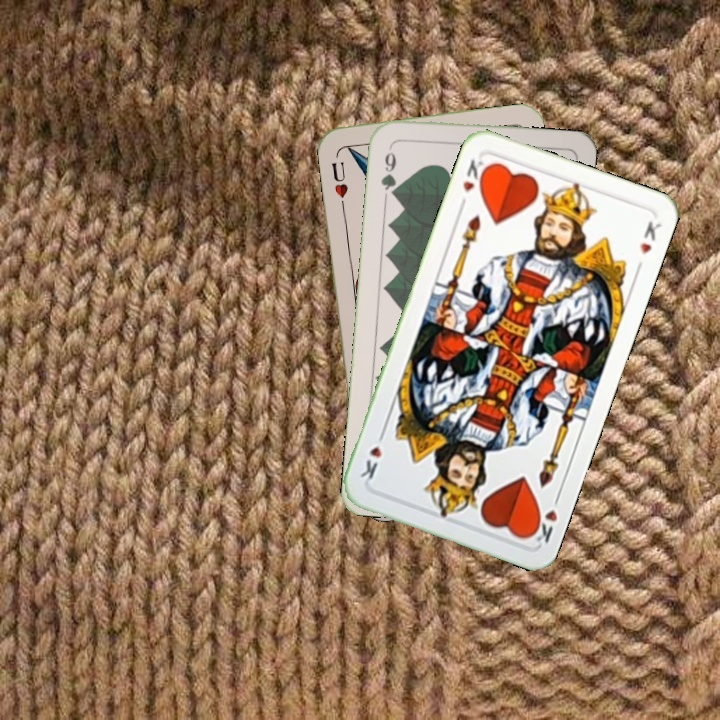G9: (377, 148, 399, 201)
HK: (526, 490, 563, 547), (455, 155, 492, 210)
HU: (327, 157, 351, 208)
